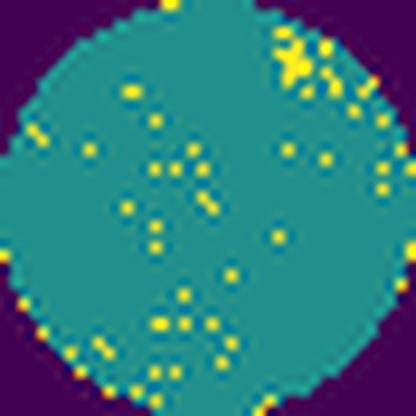Loc: (269, 38, 314, 94)
